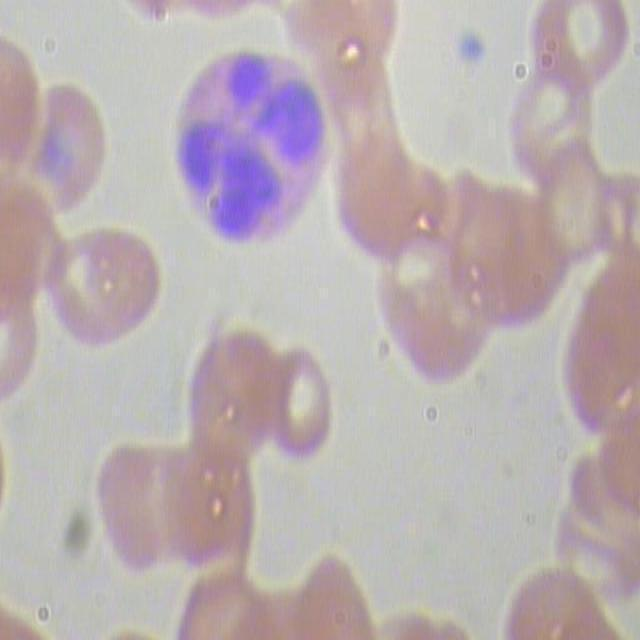Platelets: (456, 30, 487, 74)
RBC: (365, 210, 496, 394), (41, 222, 167, 350), (177, 324, 280, 472), (328, 142, 433, 262), (167, 451, 263, 578), (526, 0, 631, 99), (38, 86, 111, 215), (266, 344, 343, 465), (536, 137, 603, 268), (97, 448, 164, 579)
WBC: (150, 44, 345, 251)
